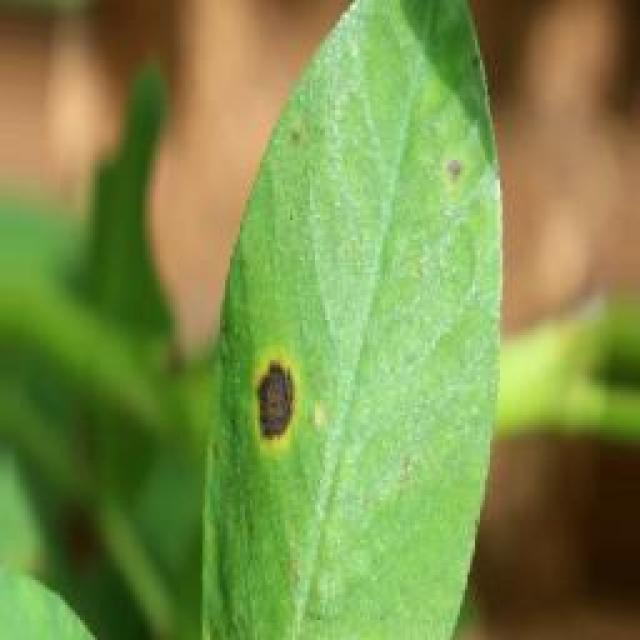Sigatoka: (220, 346, 341, 474), (271, 108, 351, 172), (420, 138, 480, 221)
